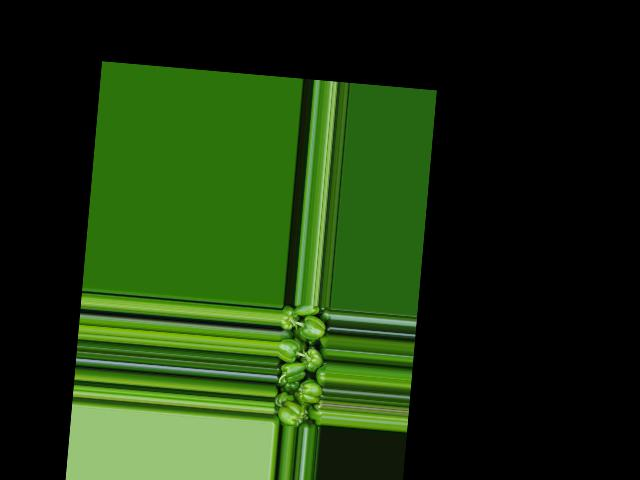bell_pepper: (273, 304, 331, 429)
